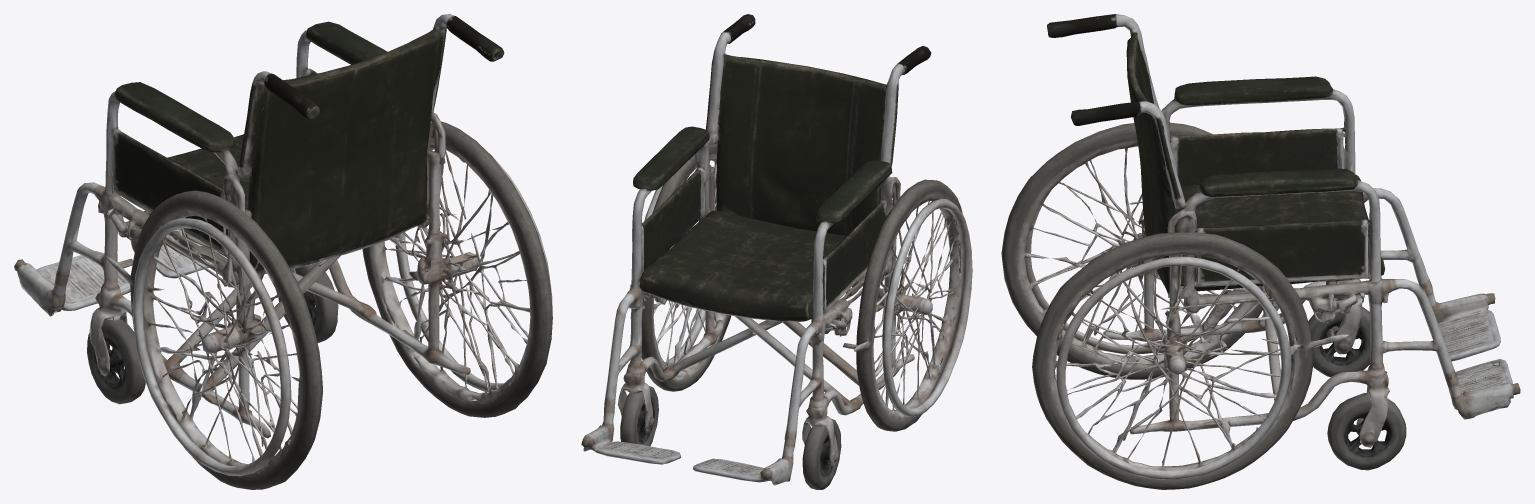
The model's file is Wheelchair.fbx.
The picture shows the model from 3 angles, left to right: view 1: azimuth 30°, elevation 25°; view 2: azimuth 150°, elevation 25°; view 3: azimuth 270°, elevation 25°; orthographic projection. The views are drawn at different scales.
Parts seen in each view (by area): view 1: Wheelchair; view 2: Wheelchair; view 3: Wheelchair.
Boxes of the visible parts, x1,y1,x2,y2 form: Wheelchair: (14, 14, 552, 489); Wheelchair: (581, 14, 972, 489); Wheelchair: (1001, 14, 1520, 489).
Size of the model in its own units: 0.7352 by 0.92 by 1.15.
Materials: 1 (1 with a texture image).
